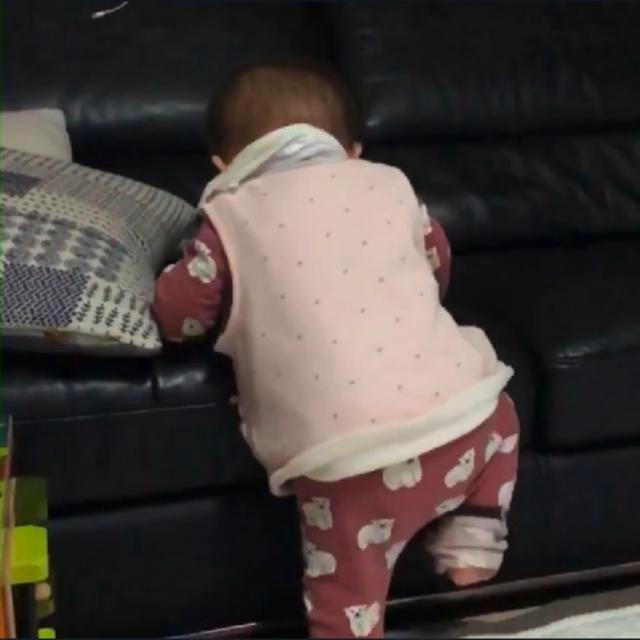child: (150, 53, 519, 640)
